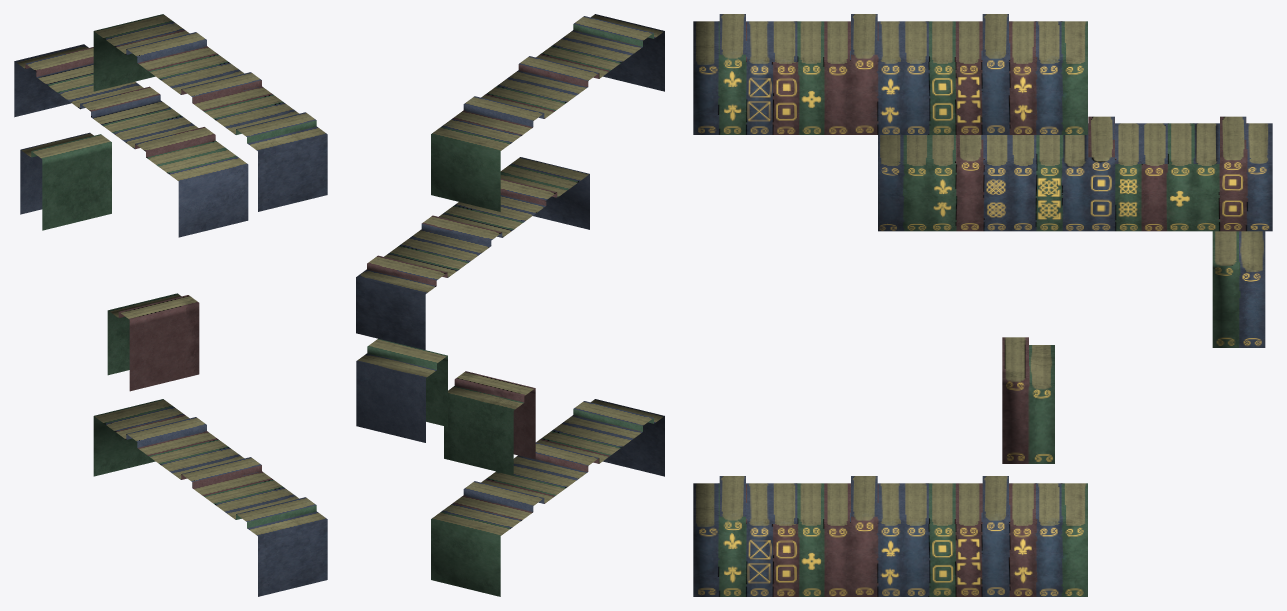
File: BookCaseFillUpper_A_02.fbx
3 views of the same model, side by side, from view 1: azimuth 30°, elevation 25°; view 2: azimuth 150°, elevation 25°; view 3: azimuth 270°, elevation 25° (orthographic). The views are drawn at different scales.
Parts seen in each view (by area): view 1: BookCaseFillUpper_A_02; view 2: BookCaseFillUpper_A_02; view 3: BookCaseFillUpper_A_02.
Part boxes in pixels (x1,y1,x2,y2): BookCaseFillUpper_A_02: (14, 14, 327, 596); BookCaseFillUpper_A_02: (356, 14, 664, 596); BookCaseFillUpper_A_02: (693, 14, 1272, 596).
Bounding box in the file's own units: 25.88 × 154 × 149.
